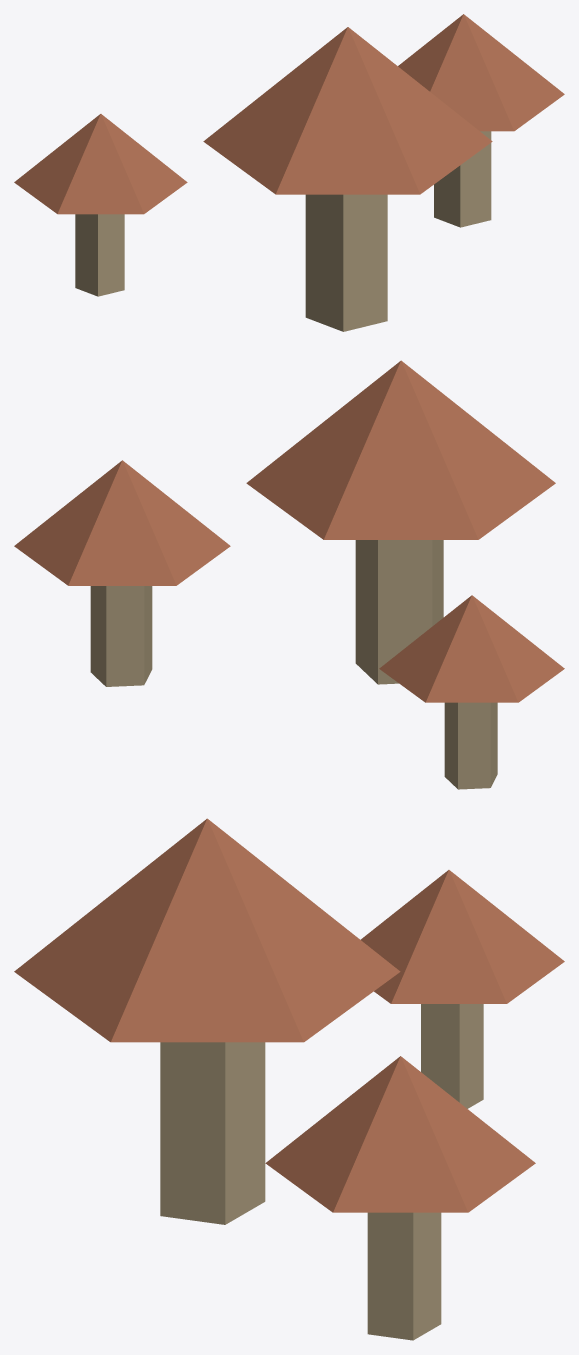
Rendered from mushrooms.glb.
3 renders of one model, top to bottom at view 1: azimuth 30°, elevation 25°; view 2: azimuth 150°, elevation 25°; view 3: azimuth 270°, elevation 25°, orthographic. The views are drawn at different scales.
Visible parts, largest first — view 1: brown cap, pale stem, brown cap.001, brown cap.002, pale stem.002, pale stem.001; view 2: brown cap, brown cap.001, brown cap.002, pale stem, pale stem.001, pale stem.002; view 3: brown cap, brown cap.001, pale stem, brown cap.002, pale stem.001, pale stem.002.
Part boxes in pixels (x1,y1,x2,y2): brown cap: (203,27,492,194); pale stem: (305,194,387,331); brown cap.001: (398,14,564,131); brown cap.002: (14,114,187,214); pale stem.002: (75,214,124,296); pale stem.001: (434,131,491,227); brown cap: (246,360,555,539); brown cap.001: (14,460,230,585); brown cap.002: (379,595,564,702); pale stem: (355,540,443,684); pale stem.001: (90,586,152,686); pale stem.002: (444,702,497,789); brown cap: (14,818,400,1042); brown cap.001: (265,1056,535,1212); pale stem: (160,1042,265,1224); brown cap.002: (360,870,564,1003); pale stem.001: (367,1212,441,1340); pale stem.002: (421,1004,483,1108).
Size of the model in its own units: 0.155 by 0.0875 by 0.114.
